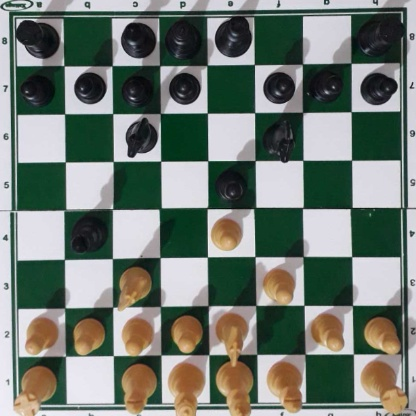black-bishop: (67, 214, 110, 253), (118, 22, 155, 59)
black-king: (215, 17, 252, 58)
black-knight: (262, 117, 296, 161), (124, 116, 156, 155)
black-pawn: (360, 69, 396, 104), (215, 166, 248, 202), (262, 67, 295, 102), (168, 67, 199, 104), (311, 67, 343, 101), (20, 72, 53, 104), (73, 70, 104, 104), (122, 72, 152, 106)
black-queen: (165, 20, 203, 59)
black-rook: (358, 10, 402, 55), (12, 16, 59, 58)
white-bishop: (120, 364, 158, 416), (266, 361, 303, 411)
white-king: (215, 360, 253, 416)
white-knight: (214, 310, 249, 366), (115, 263, 151, 309)
white-pawn: (308, 310, 345, 350), (364, 314, 400, 353), (22, 314, 58, 353), (169, 313, 203, 351), (261, 265, 295, 303), (71, 315, 105, 352), (120, 317, 153, 355), (209, 215, 242, 250)
white-queen: (166, 361, 207, 416)
white-rook: (362, 357, 405, 413), (15, 360, 54, 416)
